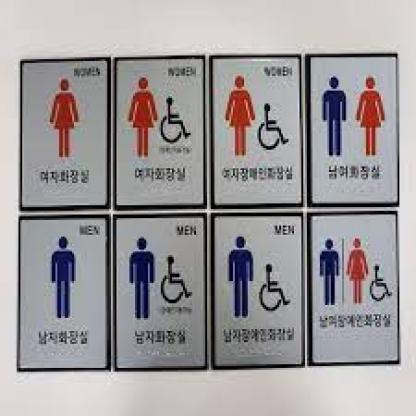toilet: (320, 73, 388, 159), (129, 235, 196, 321), (320, 235, 396, 309), (223, 76, 290, 159), (50, 76, 82, 160), (48, 235, 78, 319)
